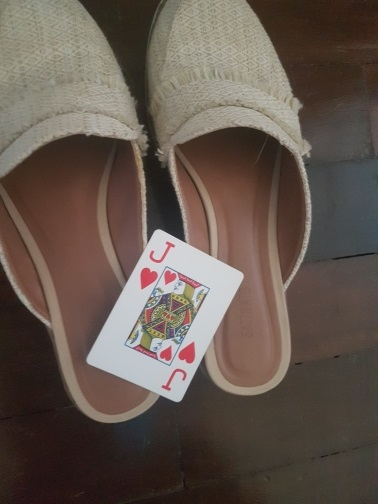jack: (86, 229, 243, 403)
